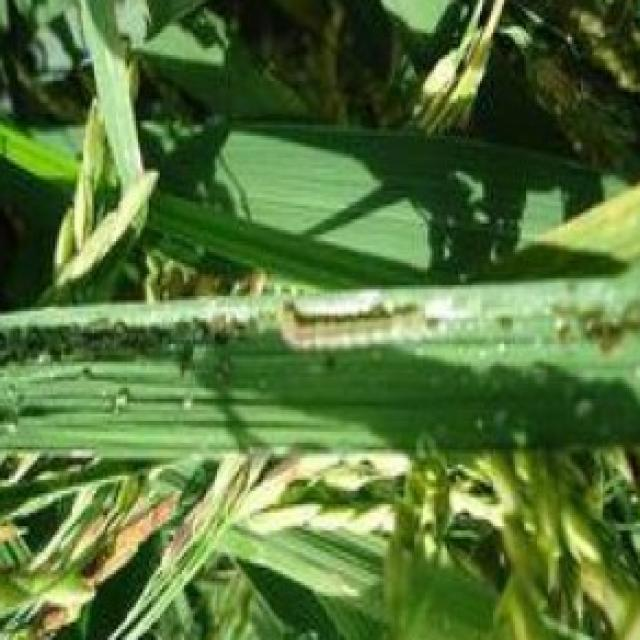rice leaf roller: (283, 311, 438, 348)
